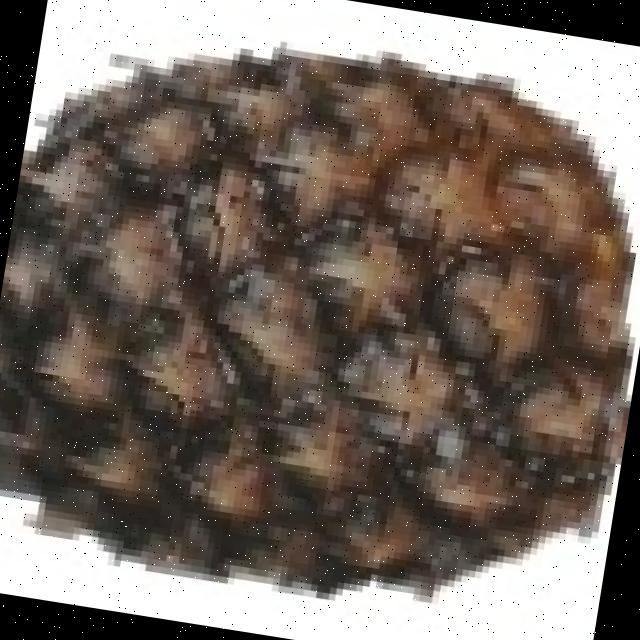pineapple: (0, 54, 634, 596)
